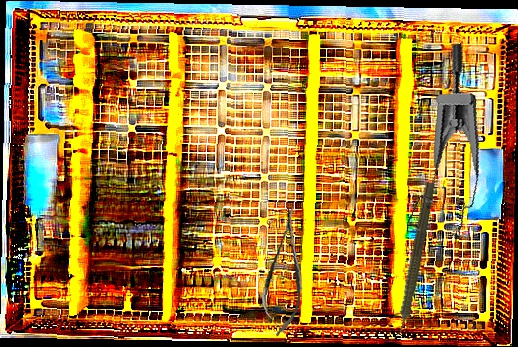Handpiece: (388, 180, 439, 345)
Micro Scissor: (256, 203, 314, 340)
Speculum: (370, 42, 507, 249)
